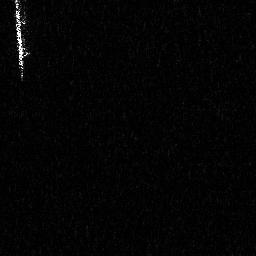ship: (7, 1, 35, 82)
